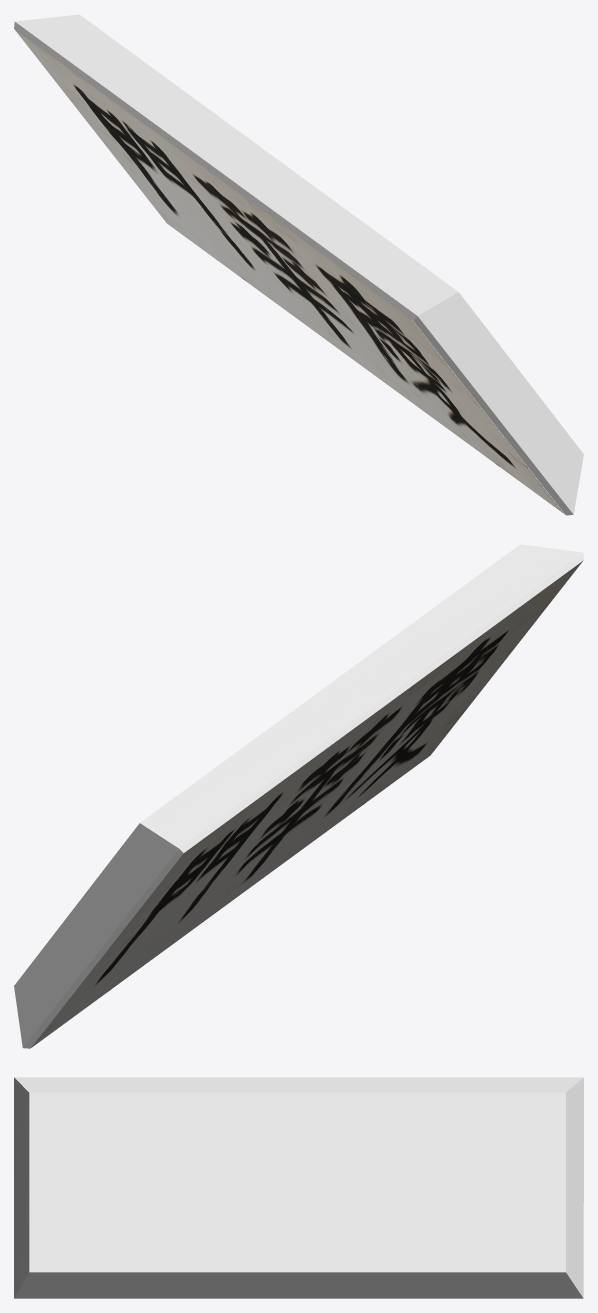
Rendered from SM_R_Sign_GH.fbx.
The picture shows the model from 3 angles, top to bottom: view 1: azimuth 30°, elevation 25°; view 2: azimuth 150°, elevation 25°; view 3: azimuth 270°, elevation 25°; orthographic projection. The views are drawn at different scales.
Parts seen in each view (by area): view 1: SM_R_Sign_GH; view 2: SM_R_Sign_GH; view 3: SM_R_Sign_GH.
Boxes of the visible parts, box(x1,y1,x2,y2) form: SM_R_Sign_GH: box(14, 14, 583, 515); SM_R_Sign_GH: box(14, 544, 583, 1048); SM_R_Sign_GH: box(14, 1077, 583, 1298).
Size of the model in its own units: 25.24 by 97.85 by 32.3.
1 material, 1 textured.
